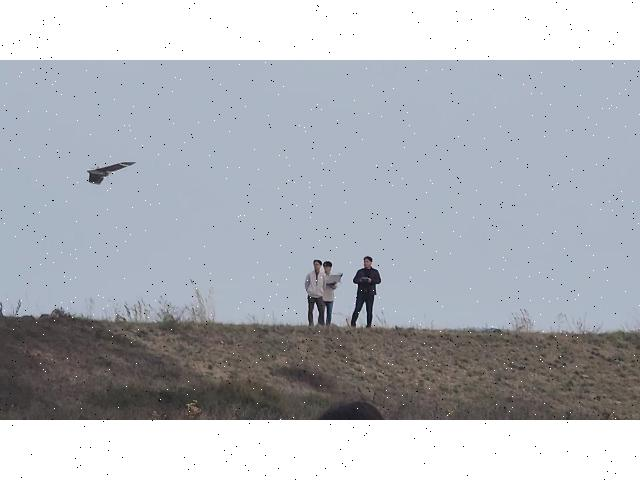Anti-Drone: (86, 160, 136, 186)
